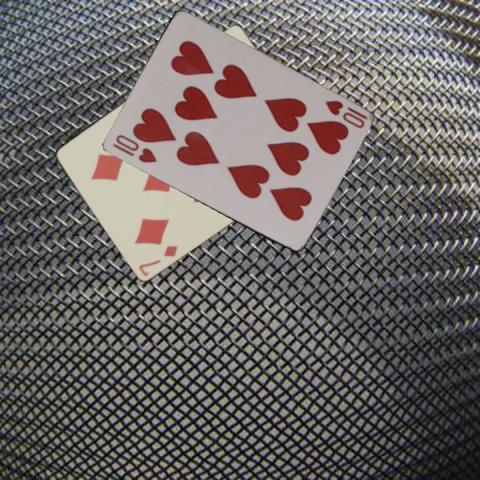10h: (109, 131, 158, 165), (321, 97, 369, 130)
7d: (135, 242, 180, 277)
